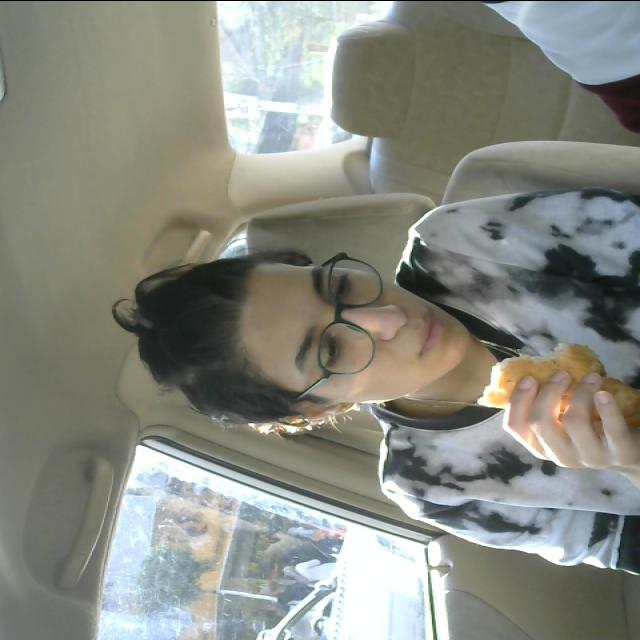eating: (478, 338, 640, 432)
